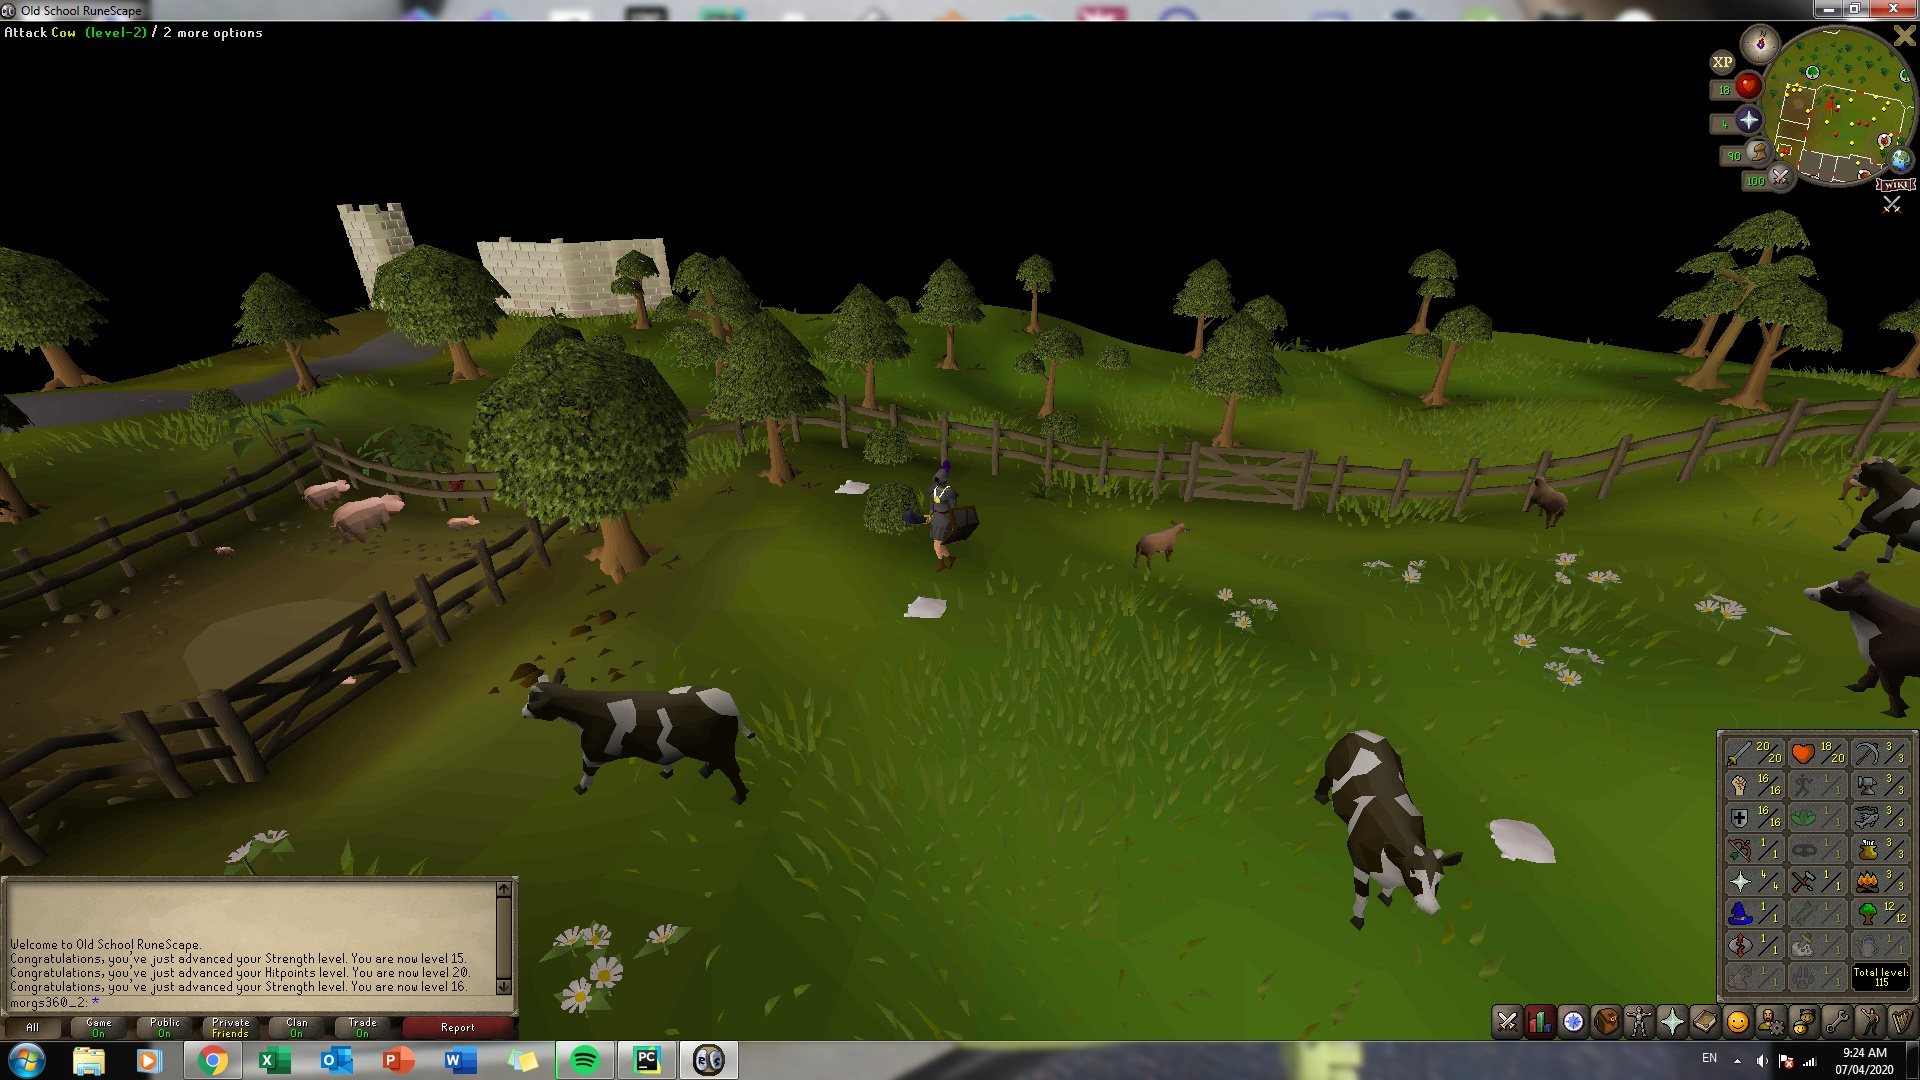cow: (1304, 725, 1472, 940), (521, 669, 754, 808), (1803, 571, 1916, 717), (1833, 448, 1919, 568)
